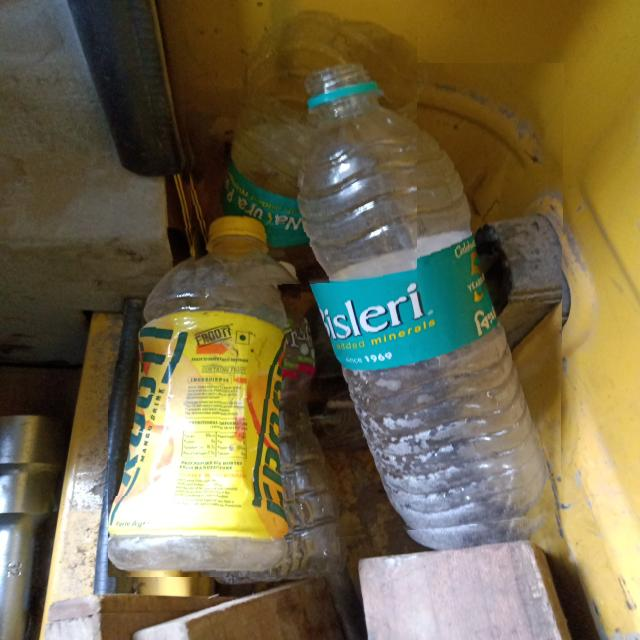plastic bottle: (281, 63, 564, 543), (108, 208, 303, 577), (197, 2, 417, 284)
